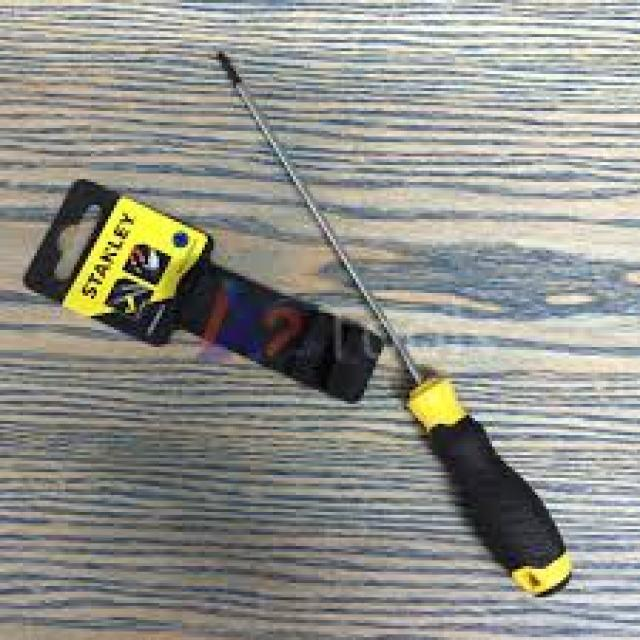screwdriver: (215, 51, 576, 603)
